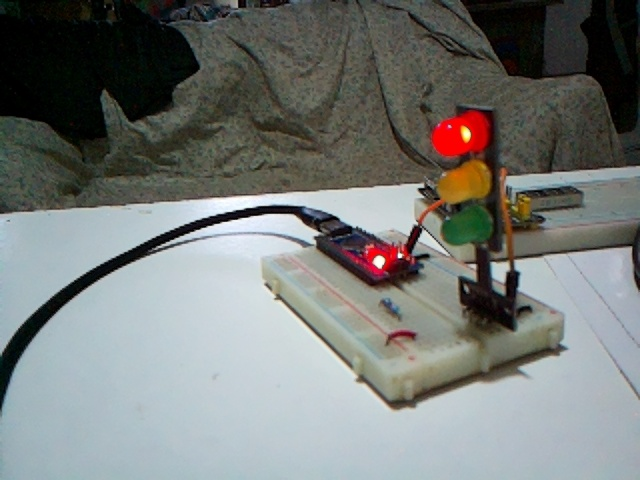traffic_light_red: (432, 106, 507, 253)
